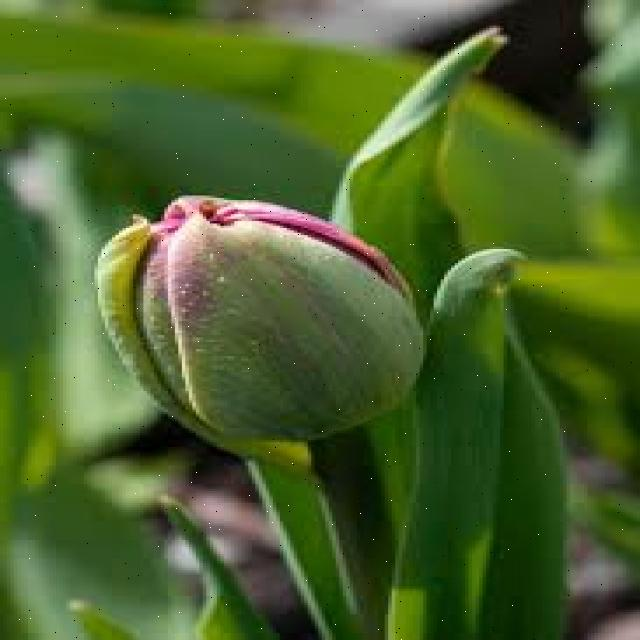Unbloomed: (88, 191, 426, 449)
